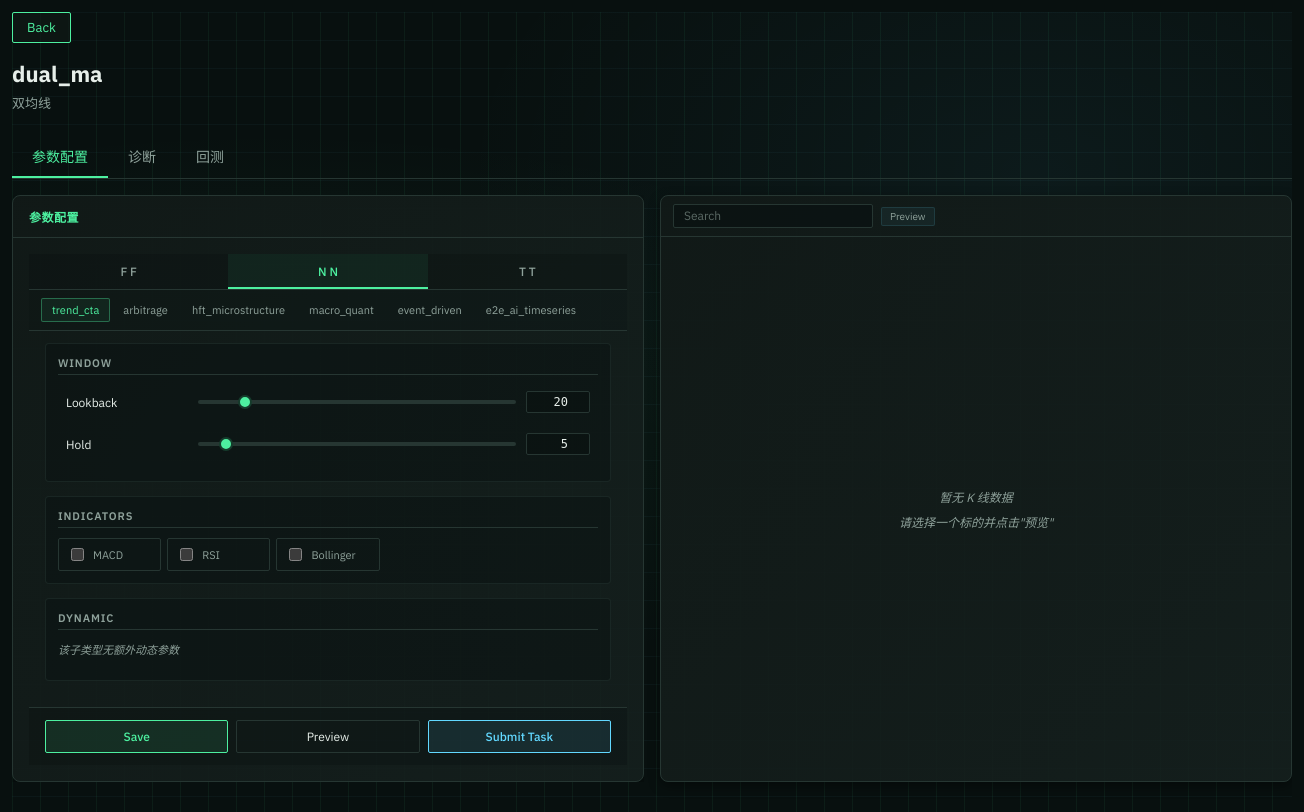
Scenario: WorkspacePage › switches to diagnose tab on click
Click the button "诊断" at x=142, y=157, box 108,136 -> 176,178
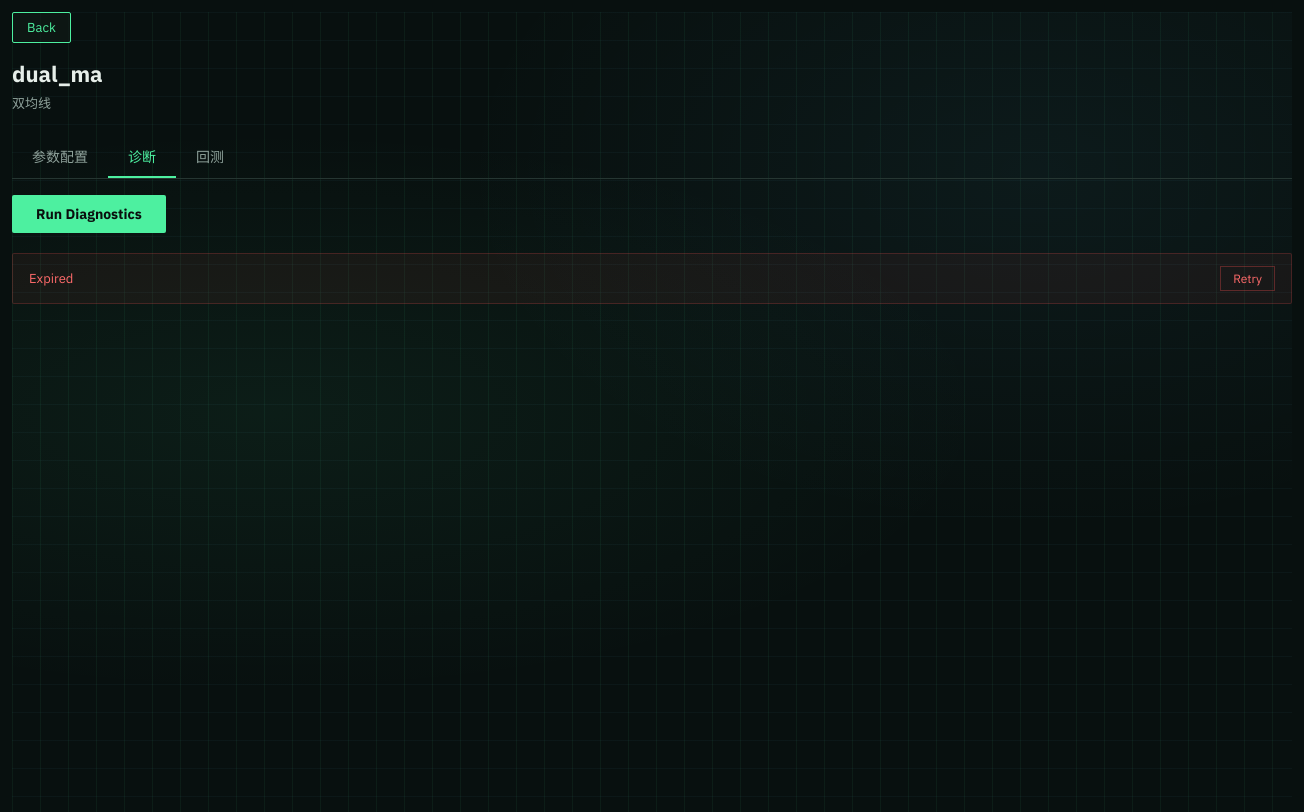
Expected: the button "Run Diagnostics" is shown, 12,195 -> 166,233
